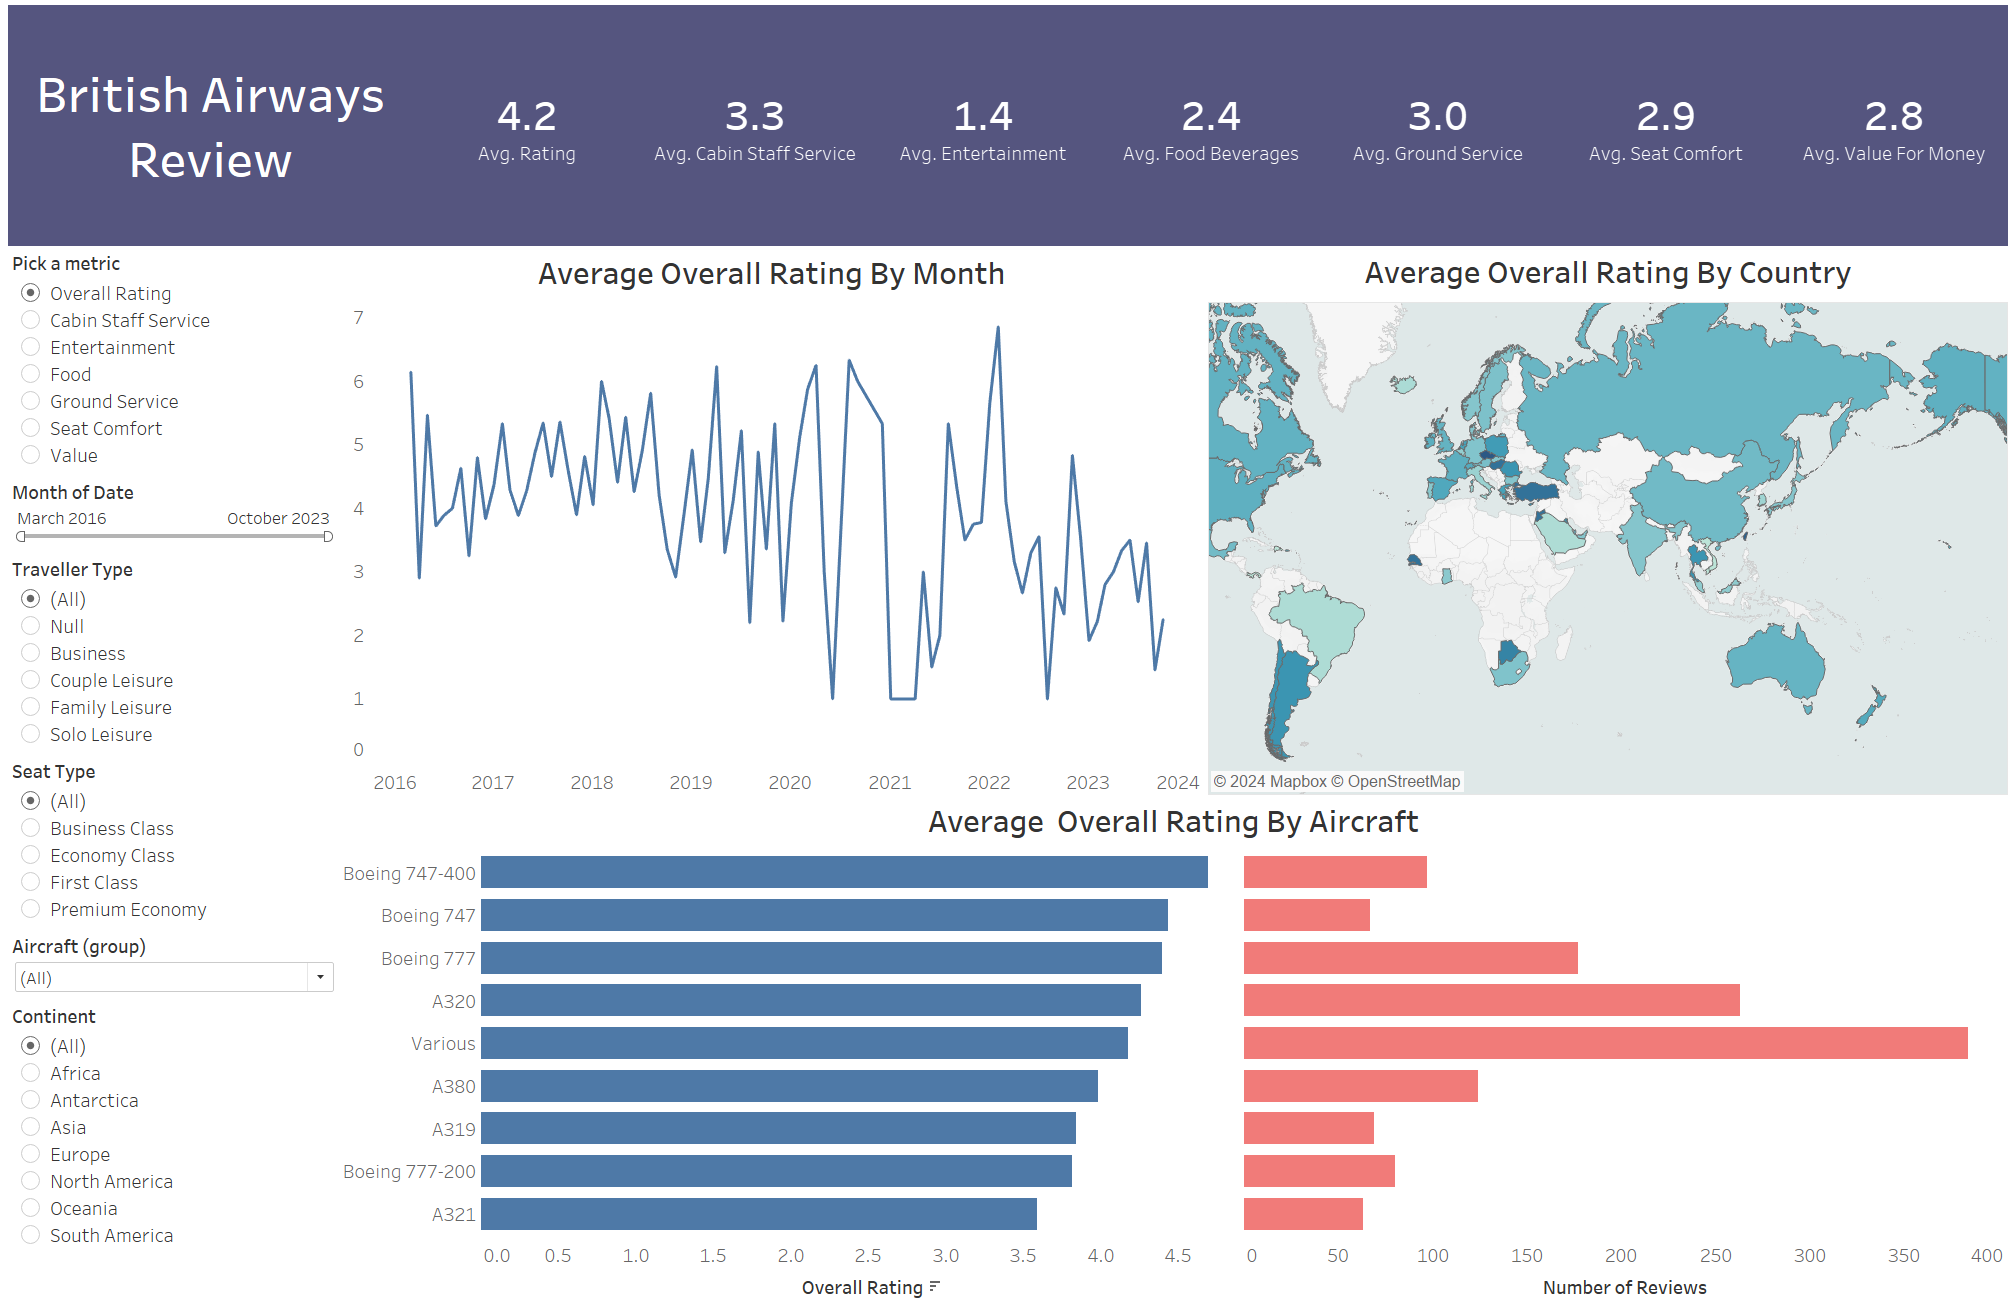

This screenshot's page, from the dashboard's own definition file:
{"tool":"tableau","page":{"name":"Dashboard 1","canvas":[2000,1300],"ordinal":0},"visuals":[{"type":"text","box":[0,0,405,241.4]},{"type":"worksheet","title":"Summary","mark":"Automatic","box":[405,0,1595,241.4]},{"type":"worksheet","title":"Map","mark":"Automatic","box":[1200,240.5,800,549.2]},{"type":"parameter","param":"[Parameters].[Parameter 1]","box":[0,241.4,333.3,229]},{"type":"worksheet","title":"Month","mark":"Automatic","rows":["Calculation_2164824101513883648"],"cols":["date"],"box":[333,241.6,861,547.1]},{"type":"filter","title":"Map","param":"[federated.0cbydtf1mra1tz18g4dsa1sxywft].[tmn:date:qk]","box":[0,470.4,333.3,77]},{"type":"filter","title":"Map","param":"[federated.0cbydtf1mra1tz18g4dsa1sxywft].[none:traveller_type:nk]","box":[0,547.4,333.3,202]},{"type":"filter","title":"Map","param":"[federated.0cbydtf1mra1tz18g4dsa1sxywft].[none:seat_type:nk]","box":[0,749.4,333.3,175]},{"type":"worksheet","title":"Aircraft","mark":"Automatic","cols":["Calculation_2164824101513883648","ba_reviews.csv_ACCB6690095244A0837AC91DF6F37681"],"box":[333,789.8,1665,511.3]},{"type":"filter","title":"Map","param":"[federated.0cbydtf1mra1tz18g4dsa1sxywft].[Aircraft (group)]","box":[0,924.4,333.3,70]},{"type":"filter","title":"Map","param":"[federated.0cbydtf1mra1tz18g4dsa1sxywft].[none:Continent:nk]","box":[0,994.4,333.3,256]}]}

Visuals, with their boxes in screenshot pixels (x1, y1, x2, y2), scaled from the page's 2000x1300 canvas onto the 2010x1307 screenshot:
text: box=[0, 0, 407, 243]
"Summary" worksheet: box=[407, 0, 2009, 243]
"Map" worksheet: box=[1206, 242, 2009, 794]
parameter: box=[0, 243, 335, 473]
"Month" worksheet: box=[335, 243, 1200, 793]
"Map" filter: box=[0, 473, 335, 550]
"Map" filter: box=[0, 550, 335, 753]
"Map" filter: box=[0, 753, 335, 929]
"Aircraft" worksheet: box=[335, 794, 2008, 1306]
"Map" filter: box=[0, 929, 335, 1000]
"Map" filter: box=[0, 1000, 335, 1257]
